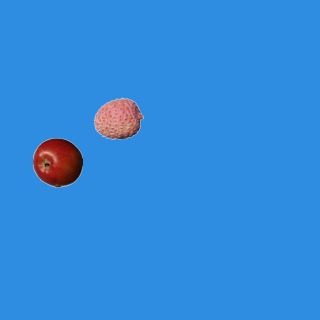Apple Braeburn: (32, 137, 82, 187)
Lychee: (93, 93, 143, 143)
